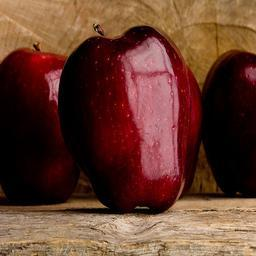apple: (57, 28, 204, 213), (1, 48, 78, 205)
